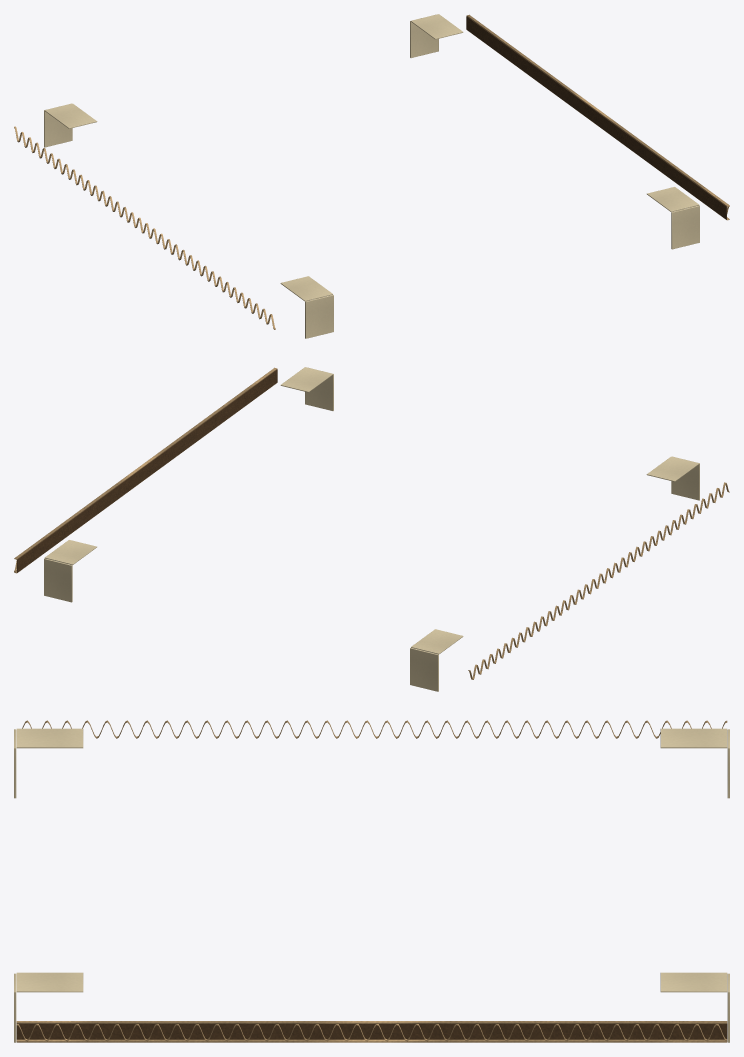
The model's file is 12-pencil-supported-box-6-2.fbx.
The picture shows the model from 3 angles, top to bottom: view 1: azimuth 30°, elevation 25°; view 2: azimuth 150°, elevation 25°; view 3: azimuth 270°, elevation 25°; orthographic projection. The views are drawn at different scales.
Visible parts, largest first — view 1: pencil-supported-box-6-2; view 2: pencil-supported-box-6-2; view 3: pencil-supported-box-6-2.
Part boxes in pixels (x1,y1,x2,y2): pencil-supported-box-6-2: (14, 14, 729, 338); pencil-supported-box-6-2: (14, 367, 729, 691); pencil-supported-box-6-2: (14, 720, 729, 1042).
Size of the model in its own units: 6472 by 509 by 6446.
Materials: 1 (1 with a texture image).
